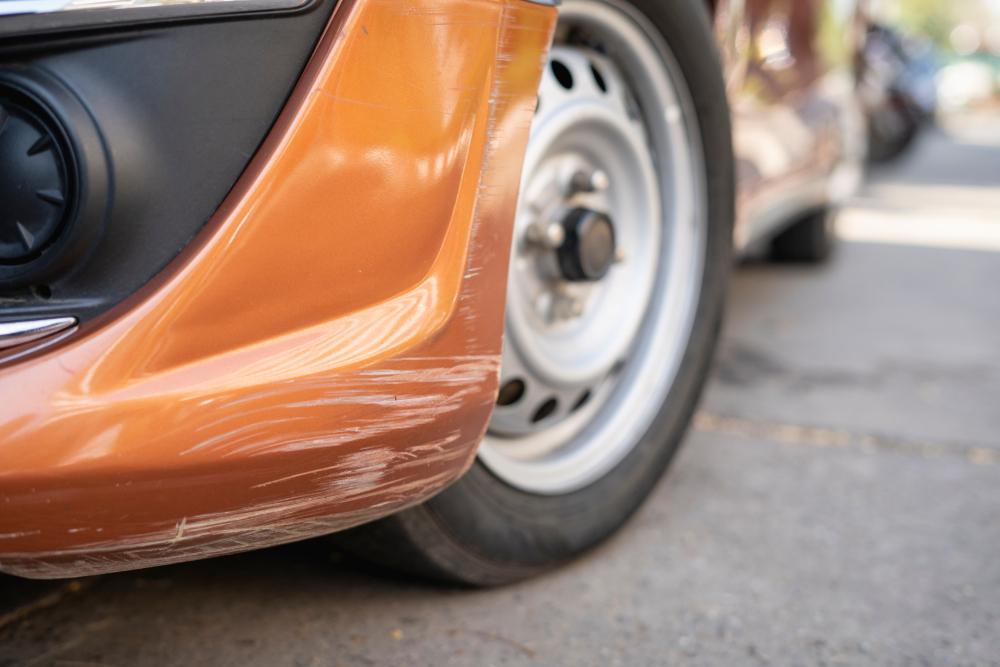scratch: (0, 3, 521, 580)
